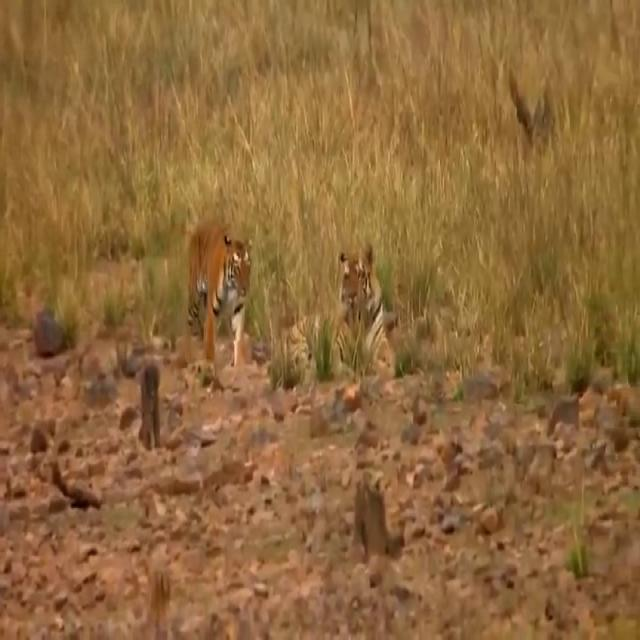tiger: (284, 245, 396, 382), (186, 220, 252, 365)
